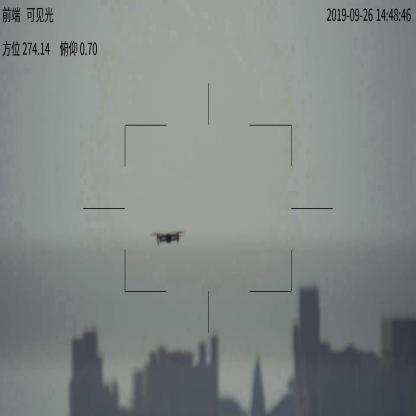uav: (153, 229, 185, 246)
